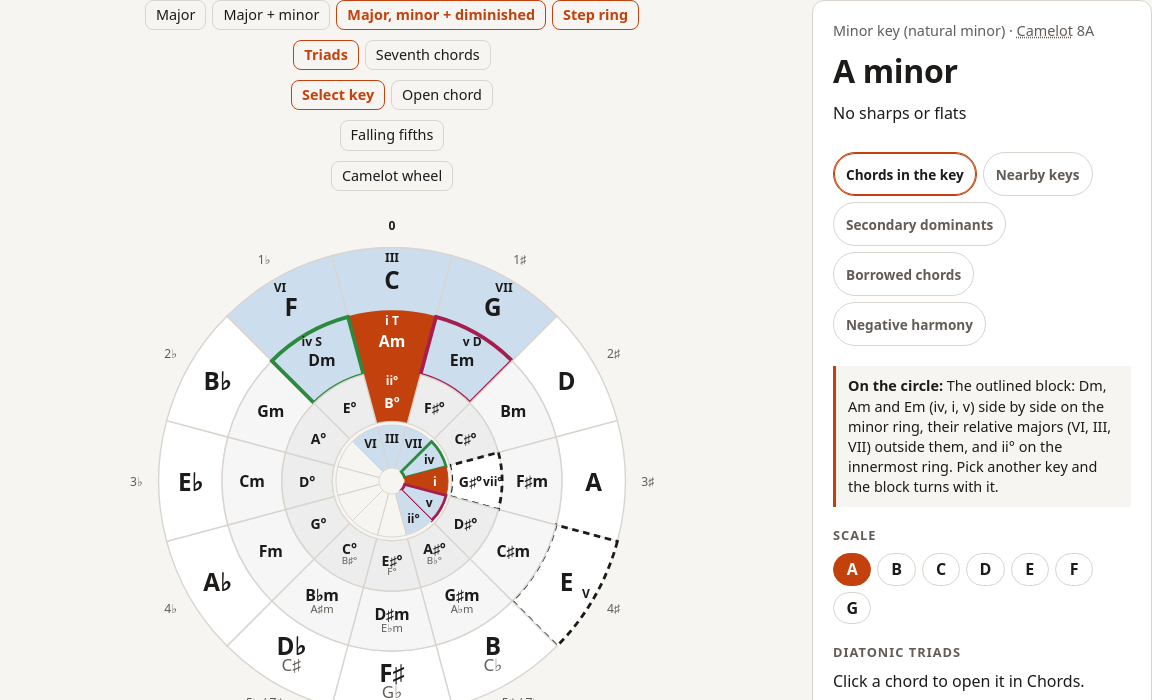
Test: Camelot wheel › follows the selected key: A minor is 8A and mixes with 9A, 7A and 8B
Click the button "Camelot wheel": (392, 176) [331,161,453,191]
(page scrolled)
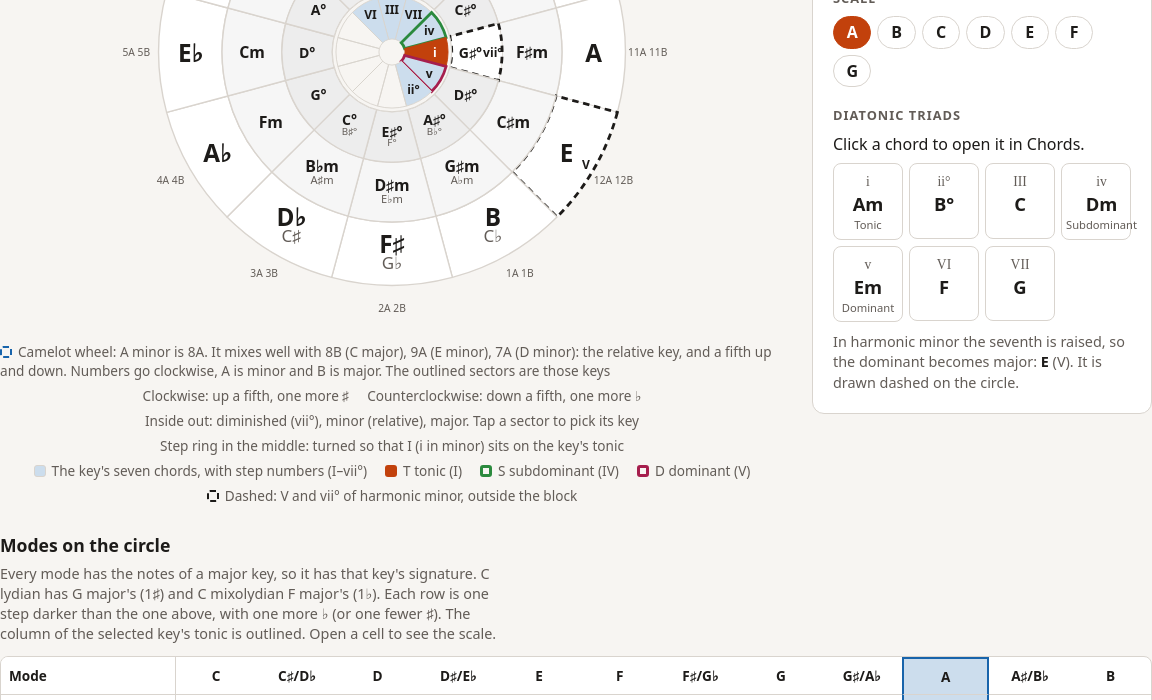
Now the text with class "legend--camelot" shows "A minor is 8A", box [0,342,784,380]
Now the text with class "legend--camelot" shows "9A (E minor)", box [325,342,575,361]
Now the text with class "legend--camelot" shows "7A (D minor)", box [325,342,575,361]
